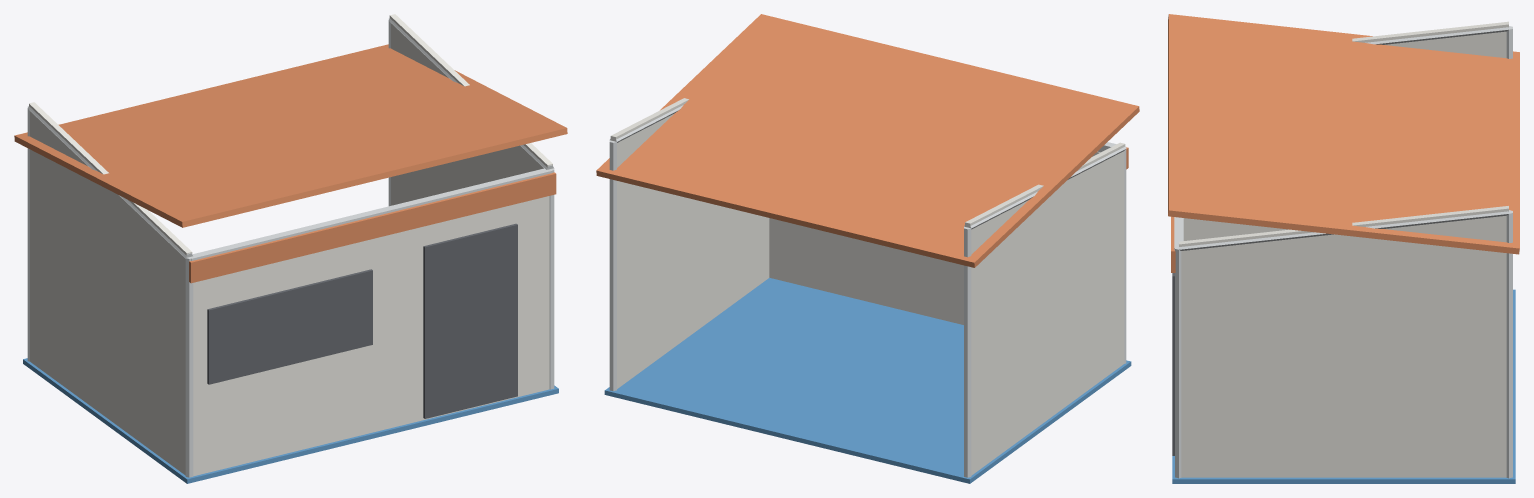
Rendered from caravan-park-and-campsite-caravan-awning-1094ea21__35351.glb.
The picture shows the model from 3 angles, left to right: view 1: azimuth 30°, elevation 25°; view 2: azimuth 150°, elevation 25°; view 3: azimuth 270°, elevation 25°; orthographic projection. The views are drawn at different scales.
Parts seen in each view (by area): view 1: caravan-awning-shell, caravan-awning-flame, caravan-awning-charcoal, caravan-awning-galv, caravan-awning-azure; view 2: caravan-awning-flame, caravan-awning-shell, caravan-awning-azure, caravan-awning-galv; view 3: caravan-awning-shell, caravan-awning-flame, caravan-awning-galv, caravan-awning-azure, caravan-awning-charcoal.
Boxes of the visible parts, box(x1,y1,x2,y2) form: caravan-awning-shell: box(29, 14, 552, 476); caravan-awning-flame: box(14, 44, 567, 283); caravan-awning-charcoal: box(207, 223, 517, 418); caravan-awning-galv: box(27, 18, 554, 477); caravan-awning-azure: box(23, 358, 558, 483); caravan-awning-flame: box(596, 14, 1139, 267); caravan-awning-shell: box(610, 98, 1125, 475); caravan-awning-azure: box(604, 278, 1131, 483); caravan-awning-galv: box(609, 105, 1126, 477); caravan-awning-shell: box(1179, 21, 1508, 477); caravan-awning-flame: box(1168, 14, 1519, 272); caravan-awning-galv: box(1174, 26, 1512, 478); caravan-awning-azure: box(1172, 289, 1515, 483); caravan-awning-charcoal: box(1172, 273, 1174, 455).
Bounding box in the file's own units: 3.52 × 2.31 × 2.66.
